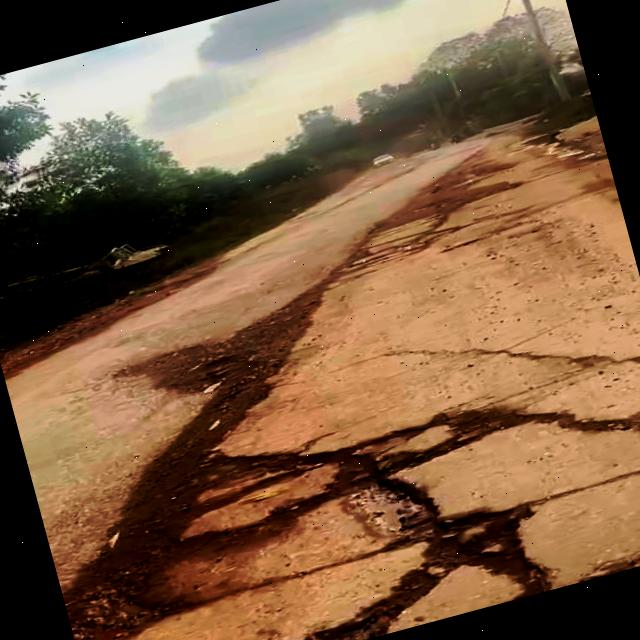pothole: (92, 366, 618, 628), (209, 473, 640, 640), (109, 348, 306, 487)
